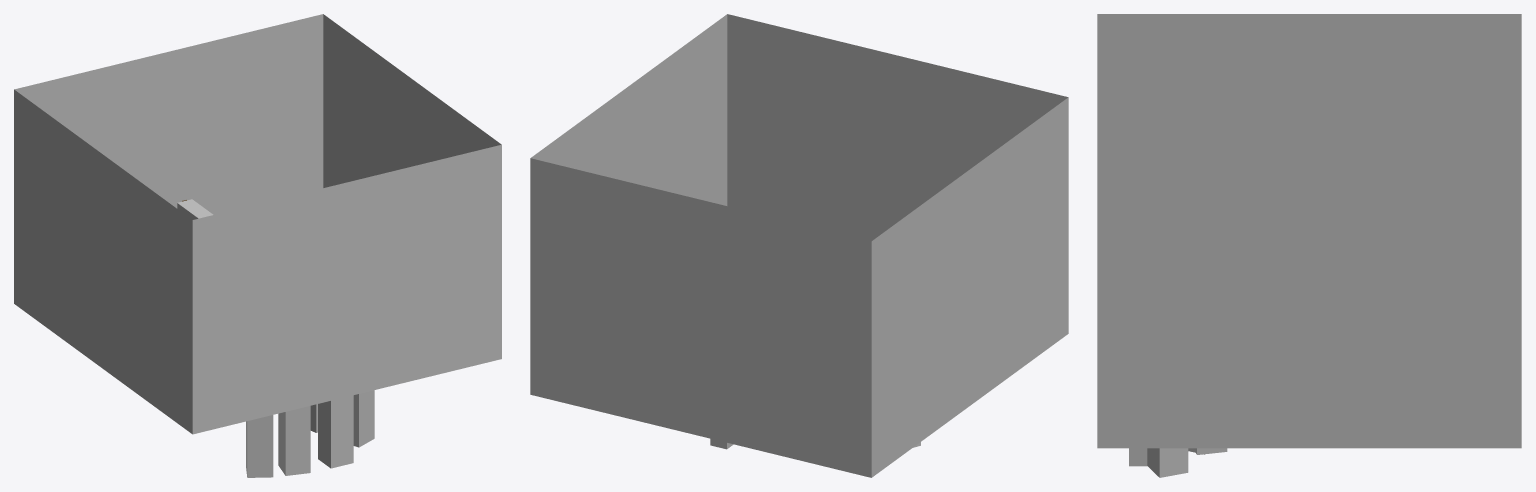
The model's file is Map6.obj.
The picture shows the model from 3 angles, left to right: view 1: azimuth 30°, elevation 25°; view 2: azimuth 150°, elevation 25°; view 3: azimuth 270°, elevation 25°; orthographic projection. The views are drawn at different scales.
Bounding box in the file's own units: 50 × 47.88 × 50.
